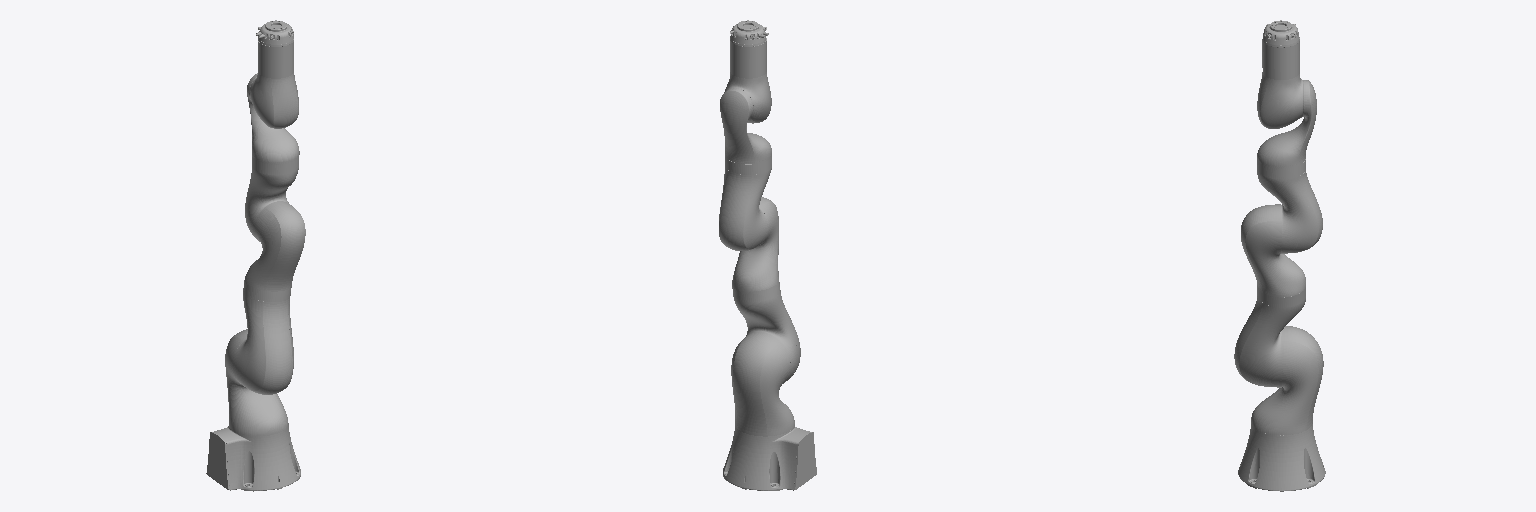
The robot description file, URDF, robot "kuka_iiwa":
<?xml version="1.0" ?>
<!-- =================================================================================== -->
<!-- |    This document was autogenerated by xacro from kuka_iiwa.xacro                | -->
<!-- |    EDITING THIS FILE BY HAND IS NOT RECOMMENDED                                 | -->
<!-- =================================================================================== -->
<robot name="kuka_iiwa">
  <material name="silver">
    <color rgba="0.700 0.700 0.700 1.000"/>
  </material>
  <transmission name="base_link__link1_tran">
    <type>transmission_interface/SimpleTransmission</type>
    <joint name="base_link__link1">
      <hardwareInterface>hardware_interface/EffortJointInterface</hardwareInterface>
    </joint>
    <actuator name="base_link__link1_actr">
      <hardwareInterface>hardware_interface/EffortJointInterface</hardwareInterface>
      <mechanicalReduction>1</mechanicalReduction>
    </actuator>
  </transmission>
  <transmission name="link1__link2_tran">
    <type>transmission_interface/SimpleTransmission</type>
    <joint name="link1__link2">
      <hardwareInterface>hardware_interface/EffortJointInterface</hardwareInterface>
    </joint>
    <actuator name="link1__link2_actr">
      <hardwareInterface>hardware_interface/EffortJointInterface</hardwareInterface>
      <mechanicalReduction>1</mechanicalReduction>
    </actuator>
  </transmission>
  <transmission name="link2__link3_tran">
    <type>transmission_interface/SimpleTransmission</type>
    <joint name="link2__link3">
      <hardwareInterface>hardware_interface/EffortJointInterface</hardwareInterface>
    </joint>
    <actuator name="link2__link3_actr">
      <hardwareInterface>hardware_interface/EffortJointInterface</hardwareInterface>
      <mechanicalReduction>1</mechanicalReduction>
    </actuator>
  </transmission>
  <transmission name="link3__link4_tran">
    <type>transmission_interface/SimpleTransmission</type>
    <joint name="link3__link4">
      <hardwareInterface>hardware_interface/EffortJointInterface</hardwareInterface>
    </joint>
    <actuator name="link3__link4_actr">
      <hardwareInterface>hardware_interface/EffortJointInterface</hardwareInterface>
      <mechanicalReduction>1</mechanicalReduction>
    </actuator>
  </transmission>
  <transmission name="link4__link5_tran">
    <type>transmission_interface/SimpleTransmission</type>
    <joint name="link4__link5">
      <hardwareInterface>hardware_interface/EffortJointInterface</hardwareInterface>
    </joint>
    <actuator name="link4__link5_actr">
      <hardwareInterface>hardware_interface/EffortJointInterface</hardwareInterface>
      <mechanicalReduction>1</mechanicalReduction>
    </actuator>
  </transmission>
  <transmission name="link5__link6_tran">
    <type>transmission_interface/SimpleTransmission</type>
    <joint name="link5__link6">
      <hardwareInterface>hardware_interface/EffortJointInterface</hardwareInterface>
    </joint>
    <actuator name="link5__link6_actr">
      <hardwareInterface>hardware_interface/EffortJointInterface</hardwareInterface>
      <mechanicalReduction>1</mechanicalReduction>
    </actuator>
  </transmission>
  <transmission name="link6__link7_tran">
    <type>transmission_interface/SimpleTransmission</type>
    <joint name="link6__link7">
      <hardwareInterface>hardware_interface/EffortJointInterface</hardwareInterface>
    </joint>
    <actuator name="link6__link7_actr">
      <hardwareInterface>hardware_interface/EffortJointInterface</hardwareInterface>
      <mechanicalReduction>1</mechanicalReduction>
    </actuator>
  </transmission>
  <transmission name="link7__end_link_tran">
    <type>transmission_interface/SimpleTransmission</type>
    <joint name="link7__end_link">
      <hardwareInterface>hardware_interface/EffortJointInterface</hardwareInterface>
    </joint>
    <actuator name="link7__end_link_actr">
      <hardwareInterface>hardware_interface/EffortJointInterface</hardwareInterface>
      <mechanicalReduction>1</mechanicalReduction>
    </actuator>
  </transmission>
  <gazebo>
    <plugin filename="libgazebo_ros_control.so" name="control"/>
  </gazebo>
  <gazebo reference="base_link">
    <material>Gazebo/Silver</material>
    <mu1>0.2</mu1>
    <mu2>0.2</mu2>
    <selfCollide>true</selfCollide>
    <gravity>true</gravity>
  </gazebo>
  <gazebo reference="link1_1">
    <material>Gazebo/Silver</material>
    <mu1>0.2</mu1>
    <mu2>0.2</mu2>
    <selfCollide>true</selfCollide>
  </gazebo>
  <gazebo reference="link2_1">
    <material>Gazebo/Silver</material>
    <mu1>0.2</mu1>
    <mu2>0.2</mu2>
    <selfCollide>true</selfCollide>
  </gazebo>
  <gazebo reference="link3_1">
    <material>Gazebo/Silver</material>
    <mu1>0.2</mu1>
    <mu2>0.2</mu2>
    <selfCollide>true</selfCollide>
  </gazebo>
  <gazebo reference="link4_1">
    <material>Gazebo/Silver</material>
    <mu1>0.2</mu1>
    <mu2>0.2</mu2>
    <selfCollide>true</selfCollide>
  </gazebo>
  <gazebo reference="link5_1">
    <material>Gazebo/Silver</material>
    <mu1>0.2</mu1>
    <mu2>0.2</mu2>
    <selfCollide>true</selfCollide>
  </gazebo>
  <gazebo reference="link6_1">
    <material>Gazebo/Silver</material>
    <mu1>0.2</mu1>
    <mu2>0.2</mu2>
    <selfCollide>true</selfCollide>
  </gazebo>
  <gazebo reference="link7_1">
    <material>Gazebo/Silver</material>
    <mu1>0.2</mu1>
    <mu2>0.2</mu2>
    <selfCollide>true</selfCollide>
  </gazebo>
  <gazebo reference="end_link_1">
    <material>Gazebo/Silver</material>
    <mu1>0.2</mu1>
    <mu2>0.2</mu2>
    <selfCollide>true</selfCollide>
  </gazebo>
  <link name="base_link">
    <inertial>
      <origin rpy="0 0 0" xyz="-0.012820903814013492 0.0051115182659933955 0.0663962675807908"/>
      <mass value="42.988933075786555"/>
      <inertia ixx="0.190409" ixy="0.005311" ixz="0.0" iyy="0.262819" iyz="0.0" izz="0.242056"/>
    </inertial>
    <visual>
      <origin rpy="1.57 0 0" xyz="0 0.066396 0"/>
      <geometry>
        <mesh filename="package://kuka_iiwa_description/meshes/base_link.stl" scale="0.001 0.001 0.001"/>
      </geometry>
      <material name="silver"/>
    </visual>
    <collision>
      <origin rpy="0 0 0" xyz="0 0.066396 0"/>
      <geometry>
        <mesh filename="package://kuka_iiwa_description/meshes/base_link.stl" scale="0.001 0.001 0.001"/>
      </geometry>
    </collision>
  </link>
  <link name="link1_1">
    <inertial>
      <origin rpy="0 0 0" xyz="0.000513388107313499 0.13240338561657816 -0.03379169086163242"/>
      <mass value="32.25255782169743"/>
      <inertia ixx="0.258907" ixy="-0.000587" ixz="-3.5e-05" iyy="0.096765" iyz="0.038662" izz="0.261201"/>
    </inertial>
    <visual>
      <origin rpy="0 0 0" xyz="-0.0 -0.081105 -0.066396"/>
      <geometry>
        <mesh filename="package://kuka_iiwa_description/meshes/link1_1.stl" scale="0.001 0.001 0.001"/>
      </geometry>
      <material name="silver"/>
    </visual>
    <collision>
      <origin rpy="0 0 0" xyz="-0.0 -0.081105 -0.066396"/>
      <geometry>
        <mesh filename="package://kuka_iiwa_description/meshes/link1_1.stl" scale="0.001 0.001 0.001"/>
      </geometry>
    </collision>
  </link>
  <link name="link2_1">
    <inertial>
      <origin rpy="0 0 0" xyz="0.006790637041771156 0.05831151747503188 0.0520962364811052"/>
      <mass value="31.02033485964618"/>
      <inertia ixx="0.237289" ixy="-0.020857" ixz="0.005198" iyy="0.08923" iyz="0.037692" izz="0.238957"/>
    </inertial>
    <visual>
      <origin rpy="0 0 0" xyz="-0.000152 -0.293605 -0.056397"/>
      <geometry>
        <mesh filename="package://kuka_iiwa_description/meshes/link2_1.stl" scale="0.001 0.001 0.001"/>
      </geometry>
      <material name="silver"/>
    </visual>
    <collision>
      <origin rpy="0 0 0" xyz="-0.000152 -0.293605 -0.056397"/>
      <geometry>
        <mesh filename="package://kuka_iiwa_description/meshes/link2_1.stl" scale="0.001 0.001 0.001"/>
      </geometry>
    </collision>
  </link>
  <link name="link3_1">
    <inertial>
      <origin rpy="0 0 0" xyz="0.01839183607817021 0.1351938119333524 0.029831502276860905"/>
      <mass value="24.92491724179464"/>
      <inertia ixx="0.194363" ixy="-0.018427" ixz="-0.005218" iyy="0.062404" iyz="-0.038158" izz="0.186753"/>
    </inertial>
    <visual>
      <origin rpy="0 0 0" xyz="-0.025571 -0.486416 -0.066784"/>
      <geometry>
        <mesh filename="package://kuka_iiwa_description/meshes/link3_1.stl" scale="0.001 0.001 0.001"/>
      </geometry>
      <material name="silver"/>
    </visual>
    <collision>
      <origin rpy="0 0 0" xyz="-0.025571 -0.486416 -0.066784"/>
      <geometry>
        <mesh filename="package://kuka_iiwa_description/meshes/link3_1.stl" scale="0.001 0.001 0.001"/>
      </geometry>
    </collision>
  </link>
  <link name="link4_1">
    <inertial>
      <origin rpy="0 0 0" xyz="-0.0005772979947998233 0.06759793289135263 -0.04449035667683612"/>
      <mass value="21.504431474954778"/>
      <inertia ixx="0.135046" ixy="-0.000462" ixz="-0.00013" iyy="0.048366" iyz="-0.022671" izz="0.128521"/>
    </inertial>
    <visual>
      <origin rpy="0 0 0" xyz="-0.055377 -0.709916 -0.077734"/>
      <geometry>
        <mesh filename="package://kuka_iiwa_description/meshes/link4_1.stl" scale="0.001 0.001 0.001"/>
      </geometry>
      <material name="silver"/>
    </visual>
    <collision>
      <origin rpy="0 0 0" xyz="-0.055377 -0.709916 -0.077734"/>
      <geometry>
        <mesh filename="package://kuka_iiwa_description/meshes/link4_1.stl" scale="0.001 0.001 0.001"/>
      </geometry>
    </collision>
  </link>
  <link name="link5_1">
    <inertial>
      <origin rpy="0 0 0" xyz="2.8597556973354588e-05 0.08555414137410255 -0.021046066685368535"/>
      <mass value="13.295939170769604"/>
      <inertia ixx="0.079127" ixy="0.000187" ixz="-8.6e-05" iyy="0.034891" iyz="0.024126" izz="0.068511"/>
    </inertial>
    <visual>
      <origin rpy="0 0 0" xyz="-0.055471 -0.884457 -0.067931"/>
      <geometry>
        <mesh filename="package://kuka_iiwa_description/meshes/link5_1.stl" scale="0.001 0.001 0.001"/>
      </geometry>
      <material name="silver"/>
    </visual>
    <collision>
      <origin rpy="0 0 0" xyz="-0.055471 -0.884457 -0.067931"/>
      <geometry>
        <mesh filename="package://kuka_iiwa_description/meshes/link5_1.stl" scale="0.001 0.001 0.001"/>
      </geometry>
    </collision>
  </link>
  <link name="link6_1">
    <inertial>
      <origin rpy="0 0 0" xyz="0.0007170658959562148 0.0199124845020473 0.07105460912496495"/>
      <mass value="17.271121217368332"/>
      <inertia ixx="0.072656" ixy="1.9e-05" ixz="-1.6e-05" iyy="0.033094" iyz="0.001862" izz="0.07103"/>
    </inertial>
    <visual>
      <origin rpy="0 0 0" xyz="-0.055085 -1.110238 0.001864"/>
      <geometry>
        <mesh filename="package://kuka_iiwa_description/meshes/link6_1.stl" scale="0.001 0.001 0.001"/>
      </geometry>
      <material name="silver"/>
    </visual>
    <collision>
      <origin rpy="0 0 0" xyz="-0.055085 -1.110238 0.001864"/>
      <geometry>
        <mesh filename="package://kuka_iiwa_description/meshes/link6_1.stl" scale="0.001 0.001 0.001"/>
      </geometry>
    </collision>
  </link>
  <link name="link7_1">
    <inertial>
      <origin rpy="0 0 0" xyz="-5.067843141224465e-05 0.07271160190383918 0.00029667254133505794"/>
      <mass value="3.59003708727431"/>
      <inertia ixx="0.004896" ixy="6e-06" ixz="-0.0" iyy="0.003889" iyz="-5e-06" izz="0.004895"/>
    </inertial>
    <visual>
      <origin rpy="0 0 0" xyz="-0.055801 -1.181054 -0.069117"/>
      <geometry>
        <mesh filename="package://kuka_iiwa_description/meshes/link7_1.stl" scale="0.001 0.001 0.001"/>
      </geometry>
      <material name="silver"/>
    </visual>
    <collision>
      <origin rpy="0 0 0" xyz="-0.055801 -1.181054 -0.069117"/>
      <geometry>
        <mesh filename="package://kuka_iiwa_description/meshes/link7_1.stl" scale="0.001 0.001 0.001"/>
      </geometry>
    </collision>
  </link>
  <link name="end_link_1">
    <inertial>
      <origin rpy="0 0 0" xyz="-0.00016848294005620407 0.027313835797532215 9.298551248301812e-05"/>
      <mass value="2.4567876231793395"/>
      <inertia ixx="0.001756" ixy="3e-06" ixz="1e-06" iyy="0.002723" iyz="4e-06" izz="0.001778"/>
    </inertial>
    <visual>
      <origin rpy="0 0 0" xyz="-0.057084 -1.281054 -0.069383"/>
      <geometry>
        <mesh filename="package://kuka_iiwa_description/meshes/end_link_1.stl" scale="0.001 0.001 0.001"/>
      </geometry>
      <material name="silver"/>
    </visual>
    <collision>
      <origin rpy="0 0 0" xyz="-0.057084 -1.281054 -0.069383"/>
      <geometry>
        <mesh filename="package://kuka_iiwa_description/meshes/end_link_1.stl" scale="0.001 0.001 0.001"/>
      </geometry>
    </collision>
  </link>
  <joint name="base_link__link1" type="continuous">
    <origin rpy="1.57 0 0" xyz="0.0 0 0.081105"/>
    <parent link="base_link"/>
    <child link="link1_1"/>
    <axis xyz="0.0 1.0 0.0"/>
  </joint>
  <joint name="link1__link2" type="continuous">
    <origin rpy="0 0 0" xyz="0.000152 0.2125 -0.009999"/>
    <parent link="link1_1"/>
    <child link="link2_1"/>
    <axis xyz="0.0 0.0 1.0"/>
  </joint>
  <joint name="link2__link3" type="continuous">
    <origin rpy="0 0 0" xyz="0.025419 0.192811 0.010387"/>
    <parent link="link2_1"/>
    <child link="link3_1"/>
    <axis xyz="0.0 1.0 0.0"/>
  </joint>
  <joint name="link3__link4" type="continuous">
    <origin rpy="0 0 0" xyz="0.029806 0.2235 0.01095"/>
    <parent link="link3_1"/>
    <child link="link4_1"/>
    <axis xyz="0.0 0.0 -1.0"/>
  </joint>
  <joint name="link4__link5" type="continuous">
    <origin rpy="0 0 0" xyz="9.4e-05 0.174541 -0.009803"/>
    <parent link="link4_1"/>
    <child link="link5_1"/>
    <axis xyz="0.0 1.0 0.0"/>
  </joint>
  <joint name="link5__link6" type="continuous">
    <origin rpy="0 0 0" xyz="-0.000386 0.225781 -0.069795"/>
    <parent link="link5_1"/>
    <child link="link6_1"/>
    <axis xyz="0.0 0.0 1.0"/>
  </joint>
  <joint name="link6__link7" type="prismatic">
    <origin rpy="0 0 0" xyz="0.000716 0.070816 0.070981"/>
    <parent link="link6_1"/>
    <child link="link7_1"/>
    <axis xyz="0.0 1.0 0.0"/>
    <limit effort="100" lower="0.0" upper="0.0" velocity="100"/>
  </joint>
  <joint name="link7__end_link" type="continuous">
    <origin rpy="0 0 0" xyz="0.001283 0.1 0.000266"/>
    <parent link="link7_1"/>
    <child link="end_link_1"/>
    <axis xyz="0.0 -1.0 0.0"/>
  </joint>
</robot>

--- What the picture shows (computed from the rendered views, not written in the file) ---
3 views of the same robot in one strip: view 1: azimuth 30°, elevation 25°; view 2: azimuth 150°, elevation 25°; view 3: azimuth 270°, elevation 25° (orthographic).
Robot: kuka_iiwa — 9 links, 8 joints (7 continuous, 1 prismatic); root link base_link; default pose: every joint at zero.
Links seen in each view (by area): view 1: base_link, link2_1, link3_1, link1_1, link6_1, link5_1, link4_1, end_link_1; view 2: link1_1, base_link, link4_1, link5_1, link3_1, link2_1, link6_1, end_link_1; view 3: link1_1, base_link, link3_1, link2_1, link4_1, link6_1, link5_1, end_link_1.
Link boxes in pixels (box(x1,y1,x2,y2)): base_link: box(206, 425, 300, 491); link2_1: box(233, 292, 293, 394); link3_1: box(243, 201, 305, 301); link1_1: box(225, 329, 288, 435); link6_1: box(250, 54, 298, 128); link5_1: box(247, 73, 299, 174); link4_1: box(245, 167, 298, 241); end_link_1: box(256, 20, 293, 46); link1_1: box(731, 332, 794, 436); base_link: box(723, 426, 816, 490); link4_1: box(719, 168, 771, 250); link5_1: box(720, 88, 771, 174); link3_1: box(732, 197, 780, 301); link2_1: box(734, 292, 800, 383); link6_1: box(724, 53, 771, 123); end_link_1: box(730, 20, 768, 46); link1_1: box(1251, 326, 1323, 435); base_link: box(1238, 424, 1325, 491); link3_1: box(1241, 204, 1305, 307); link2_1: box(1234, 296, 1305, 387); link4_1: box(1257, 171, 1322, 253); link6_1: box(1257, 53, 1302, 128); link5_1: box(1257, 80, 1316, 178); end_link_1: box(1262, 20, 1299, 47).
Bounding box of the posed robot: 0.2598 × 0.2534 × 1.4 m (x, y, z).
Meshes: 9 distinct files referenced, 9 mesh visuals loaded (9 binary STL).